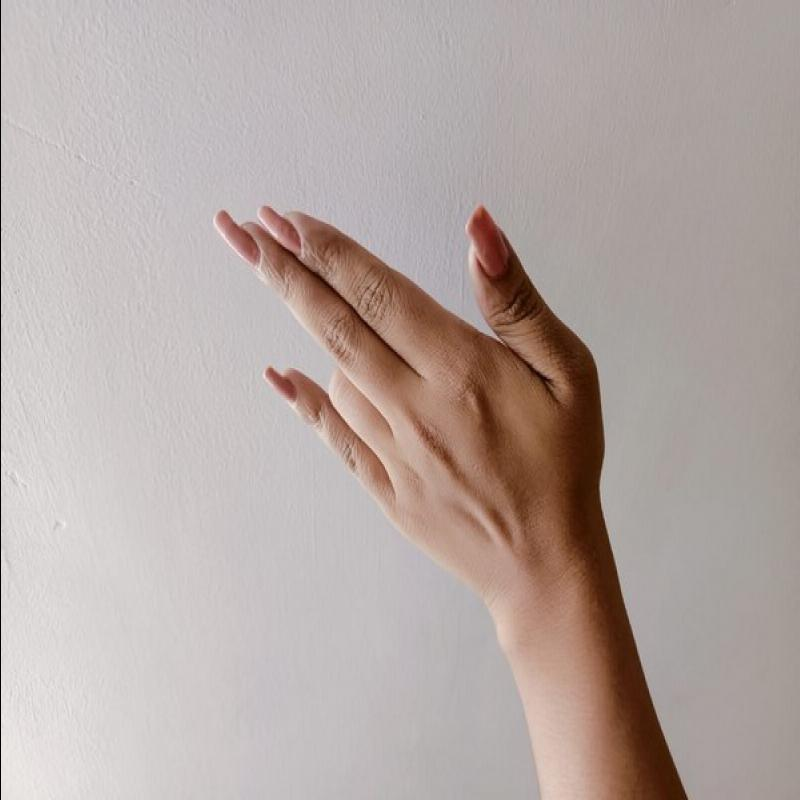Pathaaka: (198, 168, 621, 590)
